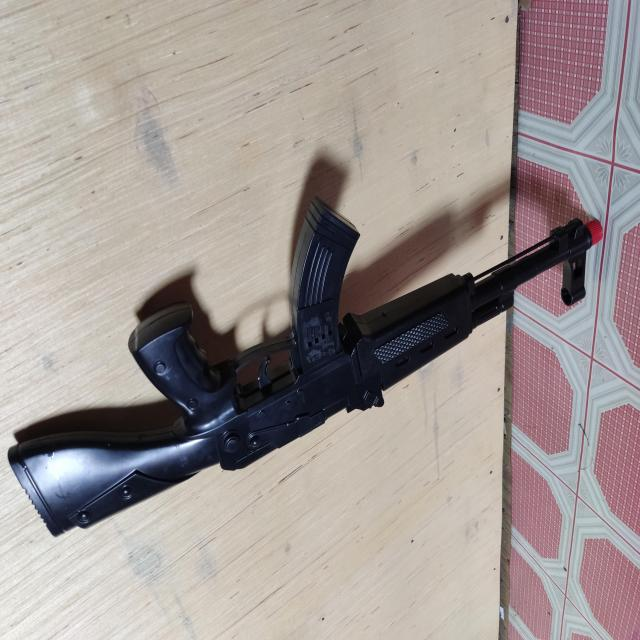rifle: (8, 191, 604, 538)
